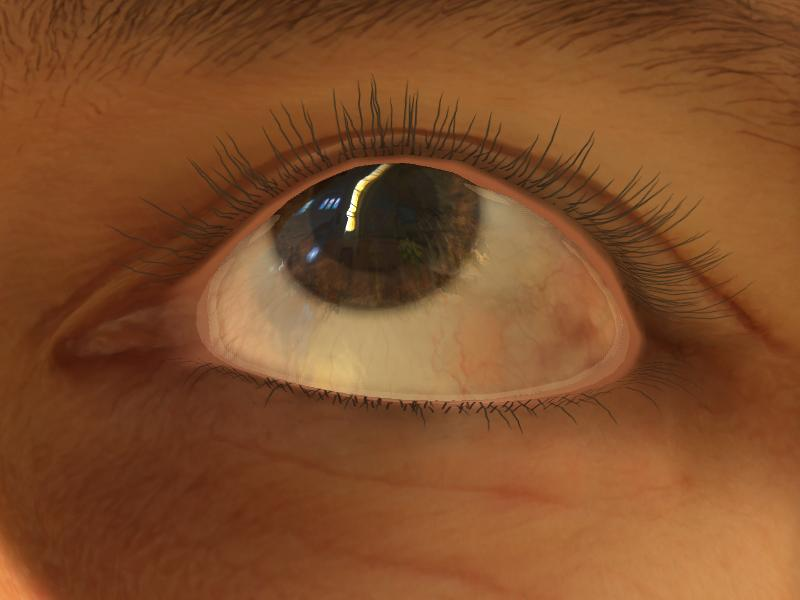eye: (274, 159, 482, 307)
